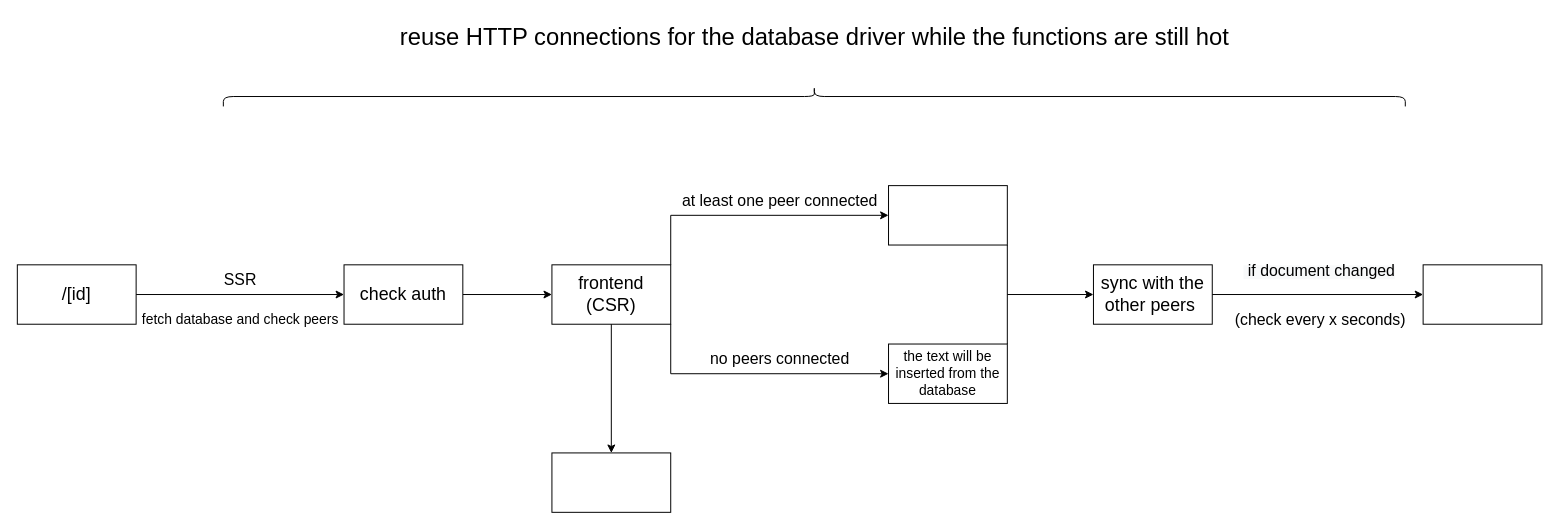
Image size: 1559x530. Some labels were removed from this diagram. The box of each missing label's shape, as (x1, y1, x2, y2) in pixels:
analytics: (551, 452, 671, 512)
the text will be fetched from peers when syncing: (888, 185, 1007, 245)
update database: (1422, 264, 1542, 324)
